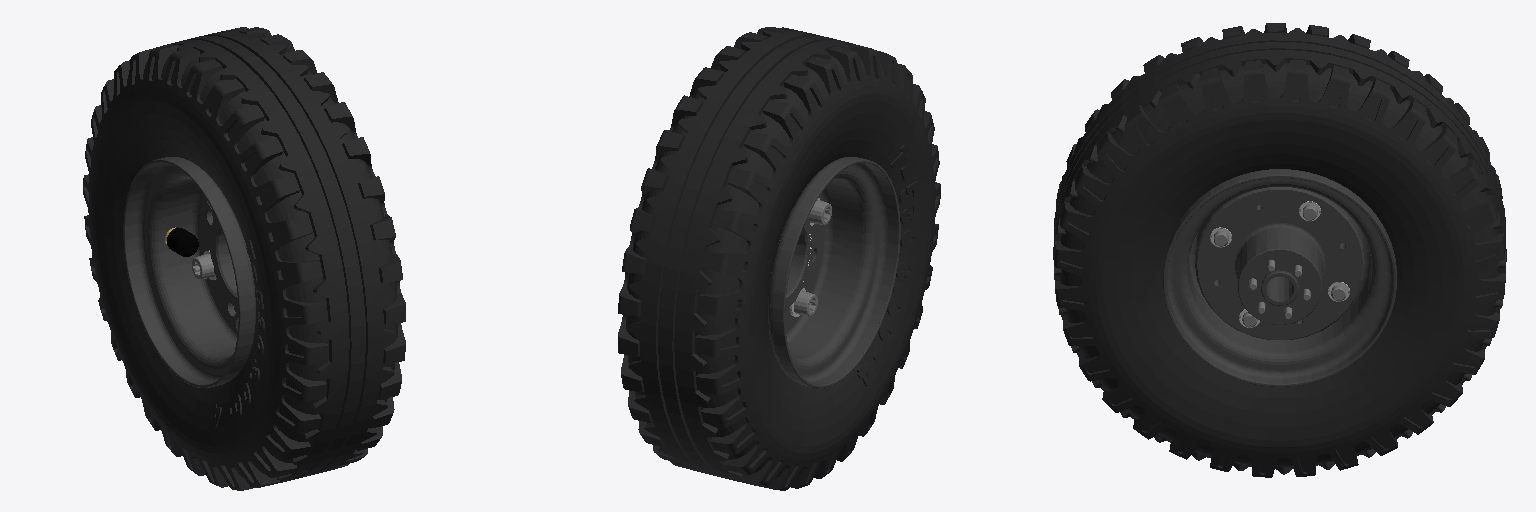
File: wheel.obj
The picture shows the model from 3 angles: view 1: azimuth 30°, elevation 25°; view 2: azimuth 150°, elevation 25°; view 3: azimuth 270°, elevation 25°; orthographic projection.
Parts seen in each view (by area): view 1: wheel; view 2: wheel; view 3: wheel.
Boxes of the visible parts, x1=… form: wheel: x1=83, y1=27, x2=405, y2=490; wheel: x1=618, y1=27, x2=940, y2=490; wheel: x1=1053, y1=23, x2=1506, y2=477.
Size of the model in its own units: 91.15 by 240 by 240.